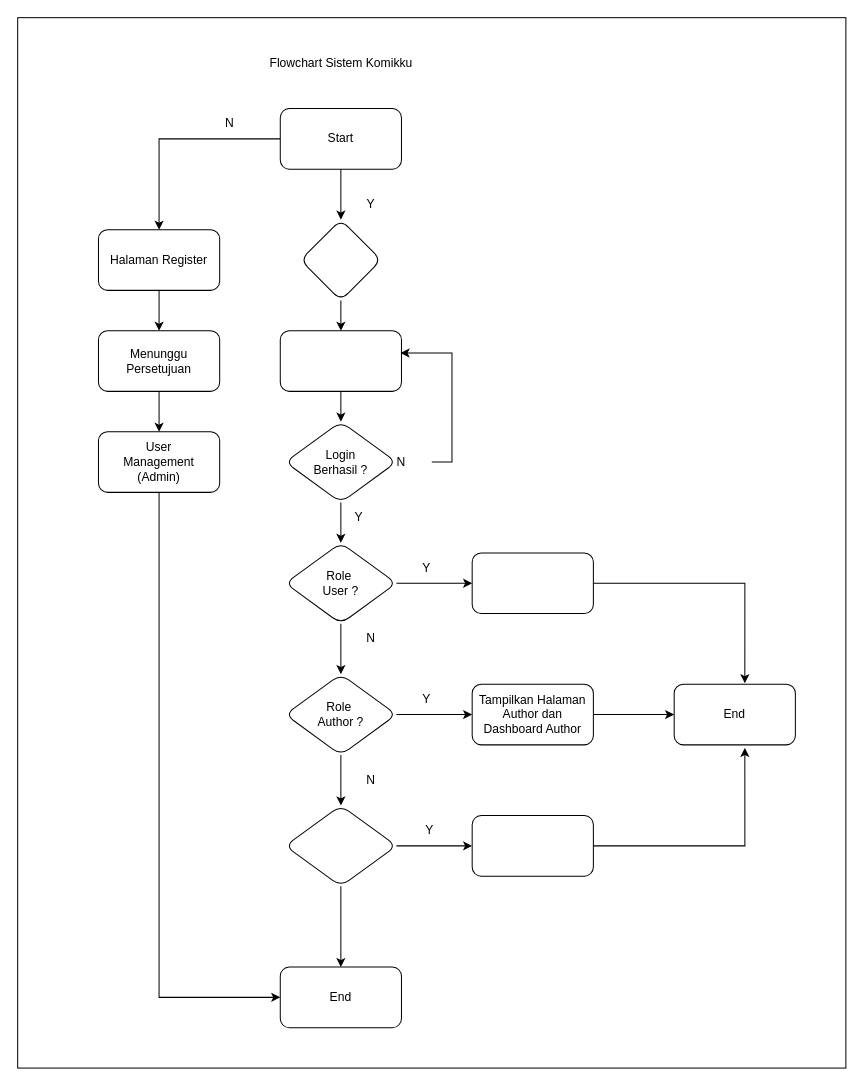
This 864x1086 diagram has some shape labels left out. Each missing label, with the centre of its shape:
"Input Username dan Password" goes at pixel 340 360.
"Punya Akun ?" goes at pixel 340 259.
"Role Admin ?" goes at pixel 340 845.
"Tampilkan Halaman Admin dan Dasboard Admin" goes at pixel 532 845.
"Tampilkan Menu User User dan Profile" goes at pixel 532 583.
